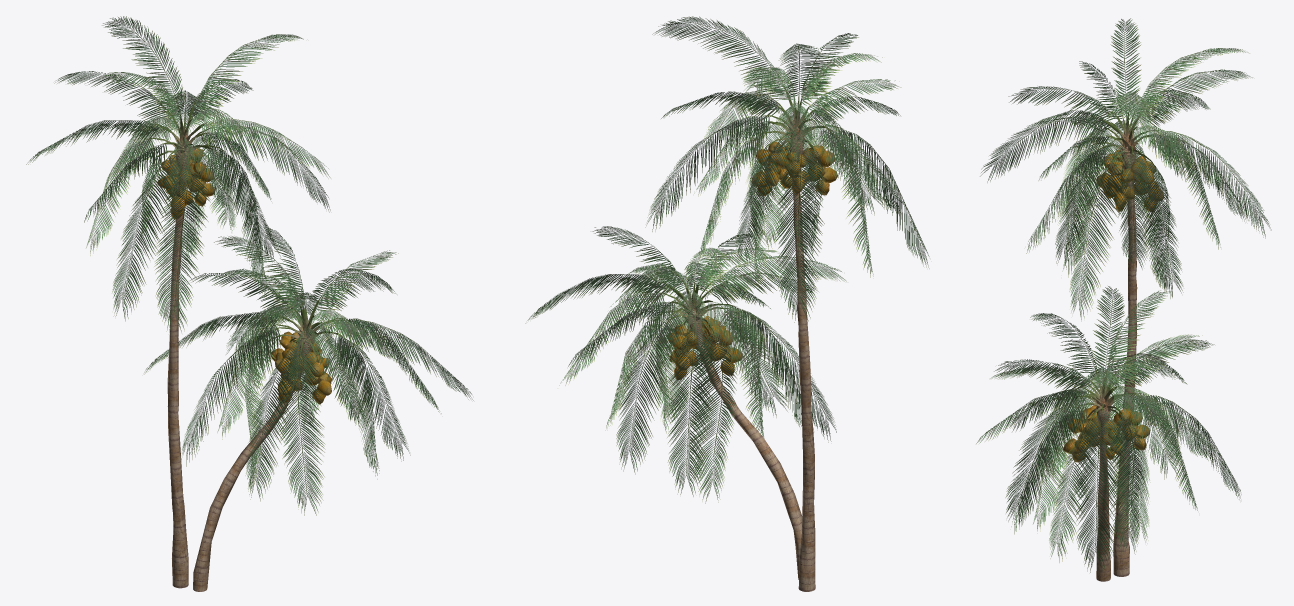
File: coconut-palm.low.glb
3 renders of one model, left to right at view 1: azimuth 30°, elevation 25°; view 2: azimuth 150°, elevation 25°; view 3: azimuth 270°, elevation 25°, orthographic. The views are drawn at different scales.
Visible parts, largest first — view 1: fronds, trunk, nuts, crown; view 2: fronds, trunk, nuts, crown; view 3: fronds, trunk, nuts, crown, fibre.
Boxes of the visible parts, x1,y1,x2,y2 form: fronds: [26, 16, 473, 515]; trunk: [167, 186, 305, 591]; nuts: [157, 148, 331, 404]; crown: [145, 100, 345, 381]; fronds: [525, 16, 929, 503]; trunk: [691, 167, 815, 591]; nuts: [667, 142, 837, 380]; crown: [655, 86, 842, 359]; fronds: [976, 18, 1271, 573]; trunk: [1096, 175, 1137, 581]; nuts: [1063, 150, 1163, 462]; crown: [1075, 111, 1162, 447]; fibre: [1096, 133, 1136, 421].
Size of the model in its own units: 5.77 by 7.65 by 4.16.
Materials: 5 (5 with a texture image).
